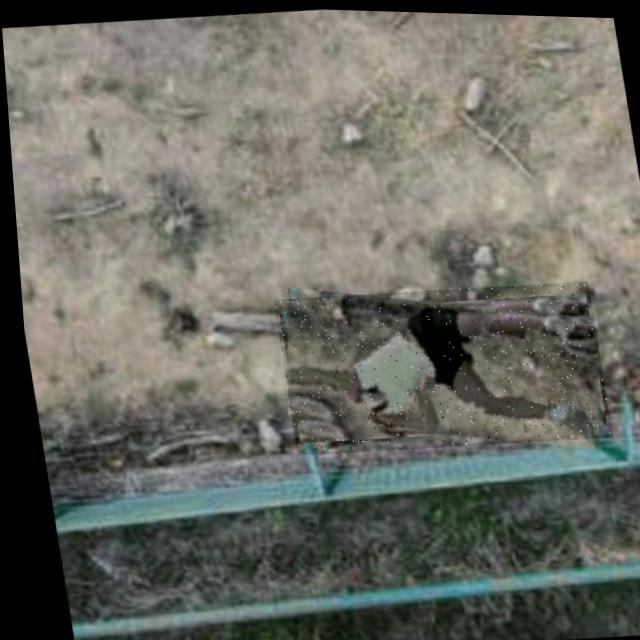Person in Rubble: (267, 269, 607, 460)
